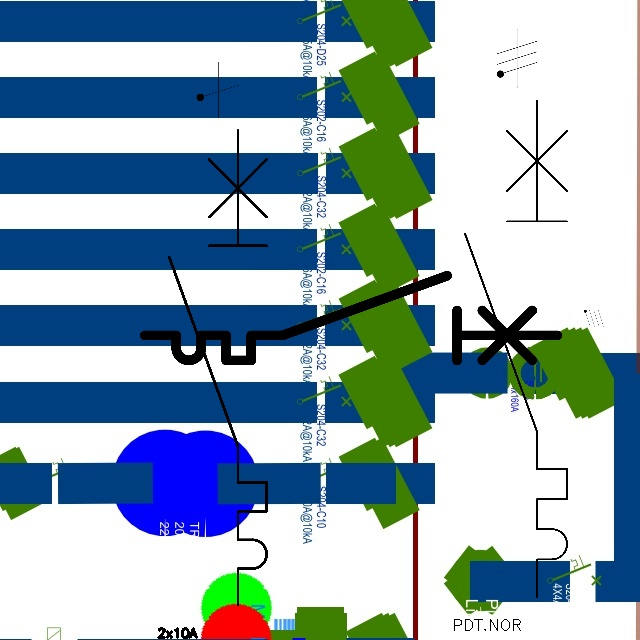interruptor_termomagnetico: (452, 88, 580, 610), (157, 118, 279, 617), (134, 265, 568, 371)
